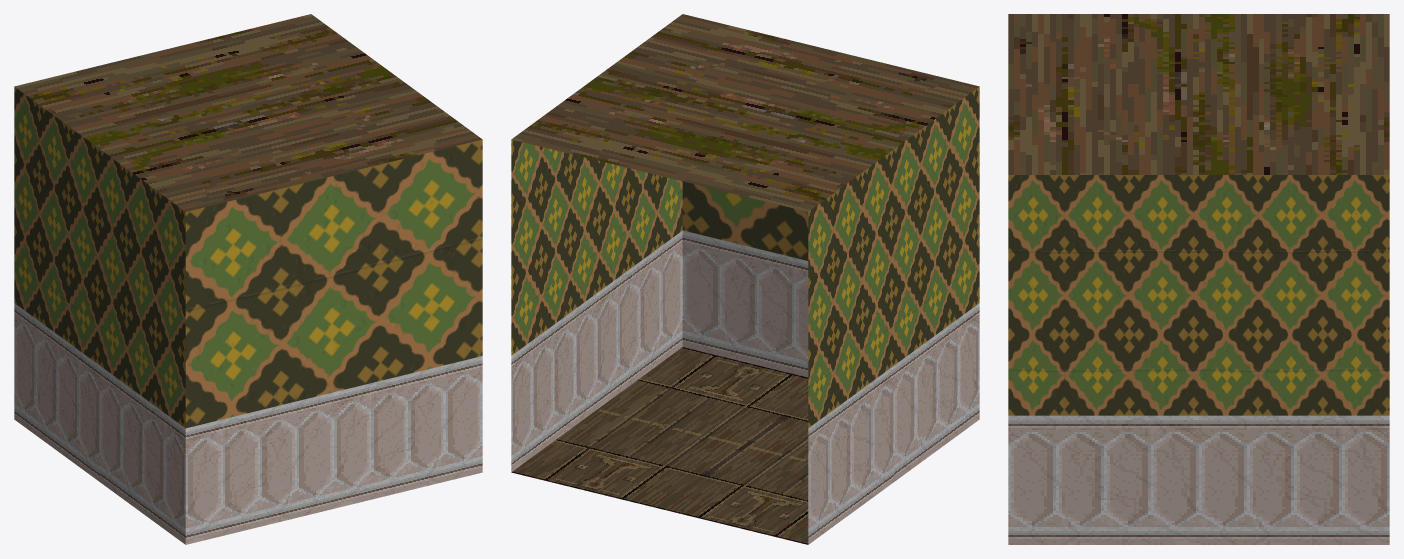
Rendered from Pasillo.fbx.
3 renders of one model, left to right at view 1: azimuth 30°, elevation 25°; view 2: azimuth 150°, elevation 25°; view 3: azimuth 270°, elevation 25°, orthographic. The views are drawn at different scales.
Parts seen in each view (by area): view 1: Plano.001; view 2: Plano.001; view 3: Plano.001.
Part boxes in pixels (x1,y1,x2,y2): Plano.001: [14, 14, 482, 544]; Plano.001: [511, 14, 979, 544]; Plano.001: [1008, 14, 1389, 544].
Bounding box in the file's own units: 1400 × 1500 × 1400.
